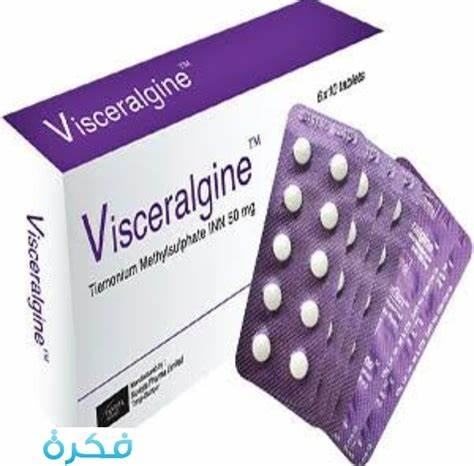Medicine: (7, 0, 408, 430)
